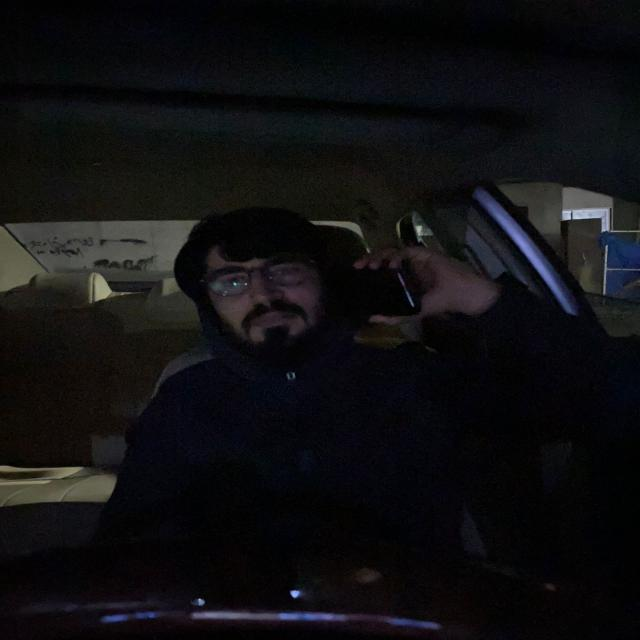mobile: (334, 264, 424, 327)
person: (184, 234, 335, 384)
